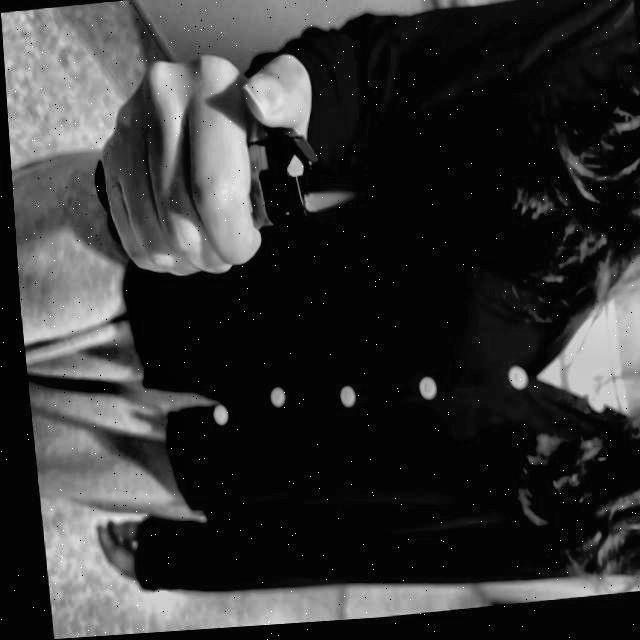Fire: (297, 188, 361, 219)
